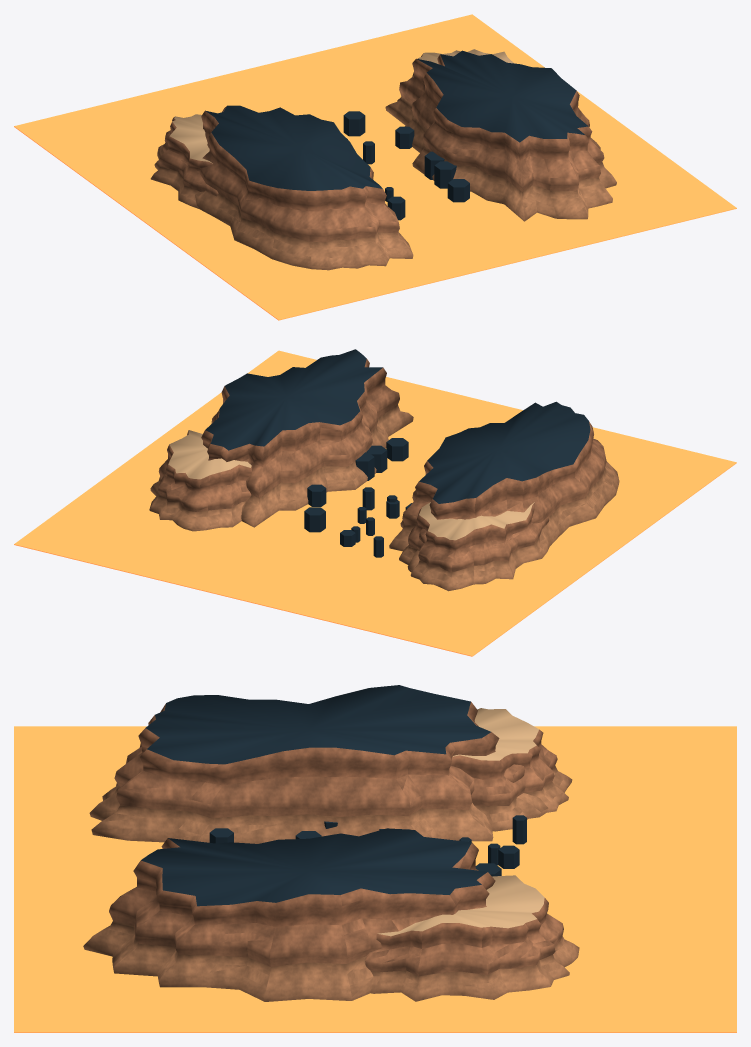
The model's file is volcanic-basin-v1.glb.
3 views of the same model, one above another, from view 1: azimuth 30°, elevation 25°; view 2: azimuth 150°, elevation 25°; view 3: azimuth 270°, elevation 25° (orthographic). The views are drawn at different scales.
Visible parts, largest first — view 1: volcanic-basin lighting, volcanic-basin recess, volcanic-basin strata 1, volcanic-basin strata 0, volcanic-basin strata 2, volcanic-basin mantle; view 2: volcanic-basin lighting, volcanic-basin recess, volcanic-basin strata 1, volcanic-basin strata 0, volcanic-basin strata 2, volcanic-basin mantle; view 3: volcanic-basin lighting, volcanic-basin recess, volcanic-basin strata 1, volcanic-basin strata 0, volcanic-basin strata 2, volcanic-basin mantle.
Part boxes in pixels (x1,y1,x2,y2): volcanic-basin lighting: [14, 14, 736, 320]; volcanic-basin recess: [205, 50, 588, 220]; volcanic-basin strata 1: [159, 72, 604, 242]; volcanic-basin strata 0: [150, 96, 616, 270]; volcanic-basin strata 2: [167, 54, 592, 211]; volcanic-basin mantle: [169, 49, 515, 163]; volcanic-basin lighting: [14, 350, 736, 656]; volcanic-basin recess: [205, 349, 590, 557]; volcanic-basin strata 1: [158, 385, 606, 572]; volcanic-basin strata 0: [149, 405, 619, 591]; volcanic-basin strata 2: [166, 358, 593, 551]; volcanic-basin mantle: [168, 430, 534, 540]; volcanic-basin lighting: [14, 726, 736, 1032]; volcanic-basin recess: [141, 685, 526, 906]; volcanic-basin strata 1: [109, 743, 563, 976]; volcanic-basin strata 0: [83, 766, 579, 1001]; volcanic-basin strata 2: [133, 702, 548, 949]; volcanic-basin mantle: [377, 708, 544, 936].
Size of the model in its own units: 130 by 21.47 by 130.
6 materials, 3 textured.
